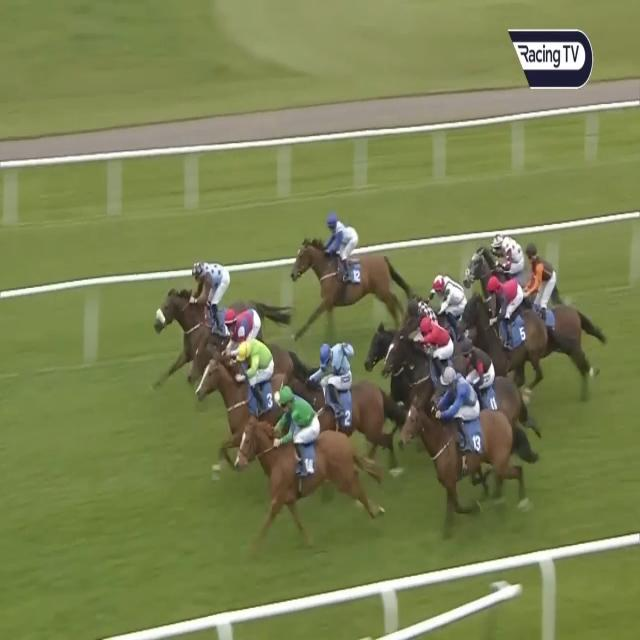horses-racing: (229, 385, 378, 545), (397, 366, 534, 529), (293, 216, 408, 315), (296, 341, 395, 445), (153, 260, 275, 344), (198, 337, 300, 433), (522, 244, 591, 360), (466, 274, 547, 365), (199, 308, 296, 377), (386, 317, 464, 384), (365, 289, 454, 347), (467, 231, 532, 293), (408, 272, 473, 331), (456, 339, 522, 389)
